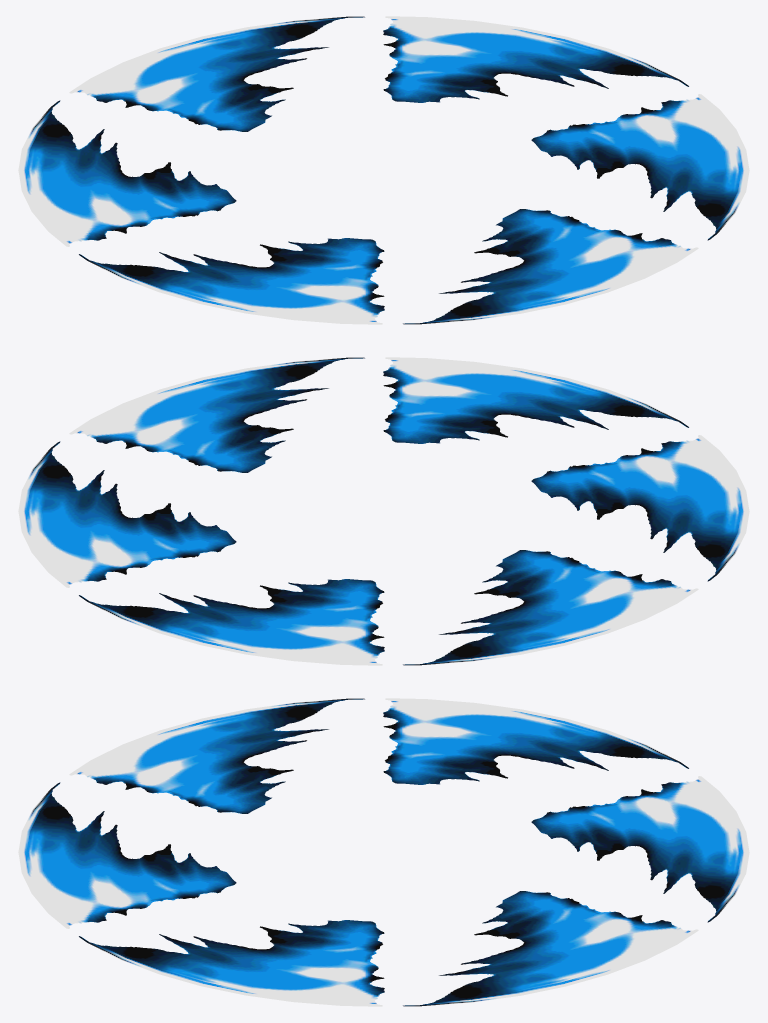
Rendered from Fbx_Dg_fsw_004.FBX.
The picture shows the model from 3 angles, top to bottom: view 1: azimuth 30°, elevation 25°; view 2: azimuth 150°, elevation 25°; view 3: azimuth 270°, elevation 25°; orthographic projection.
Parts seen in each view (by area): view 1: Fbx_Dg_fsw_004; view 2: Fbx_Dg_fsw_004; view 3: Fbx_Dg_fsw_004.
Boxes of the visible parts, left/top/right/bottom form: Fbx_Dg_fsw_004: left=18, top=16, right=749, bottom=324; Fbx_Dg_fsw_004: left=18, top=357, right=749, bottom=665; Fbx_Dg_fsw_004: left=18, top=698, right=749, bottom=1006.
Size of the model in its own units: 12796 by 0.000166 by 12798.
